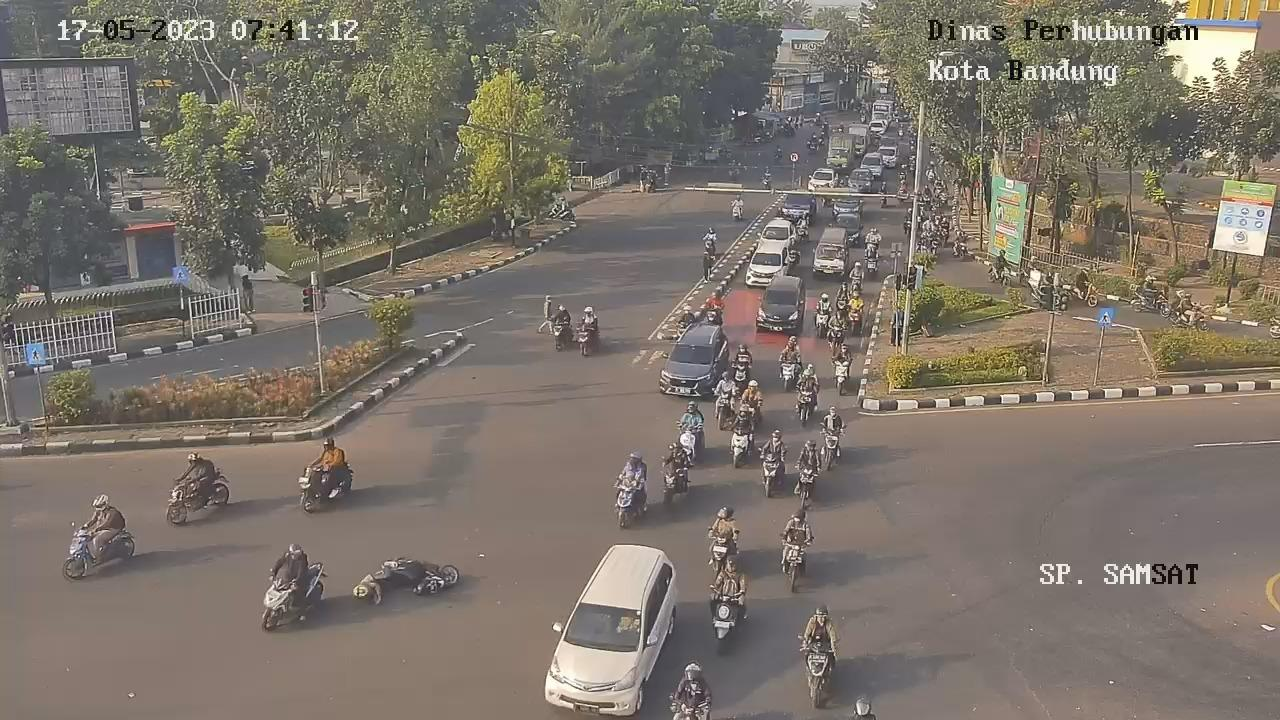accident: (351, 561, 412, 605)
